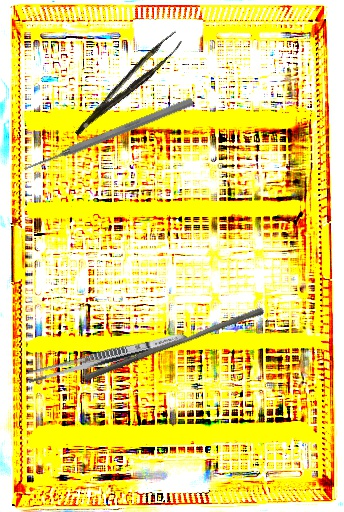Dressing Forceps: (23, 328, 190, 387)
Pusher: (81, 299, 266, 390), (22, 95, 195, 175)
Tissue Forceps: (63, 30, 190, 136)
